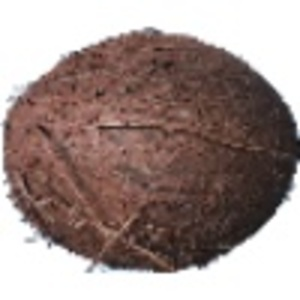coco: (2, 30, 300, 275)
